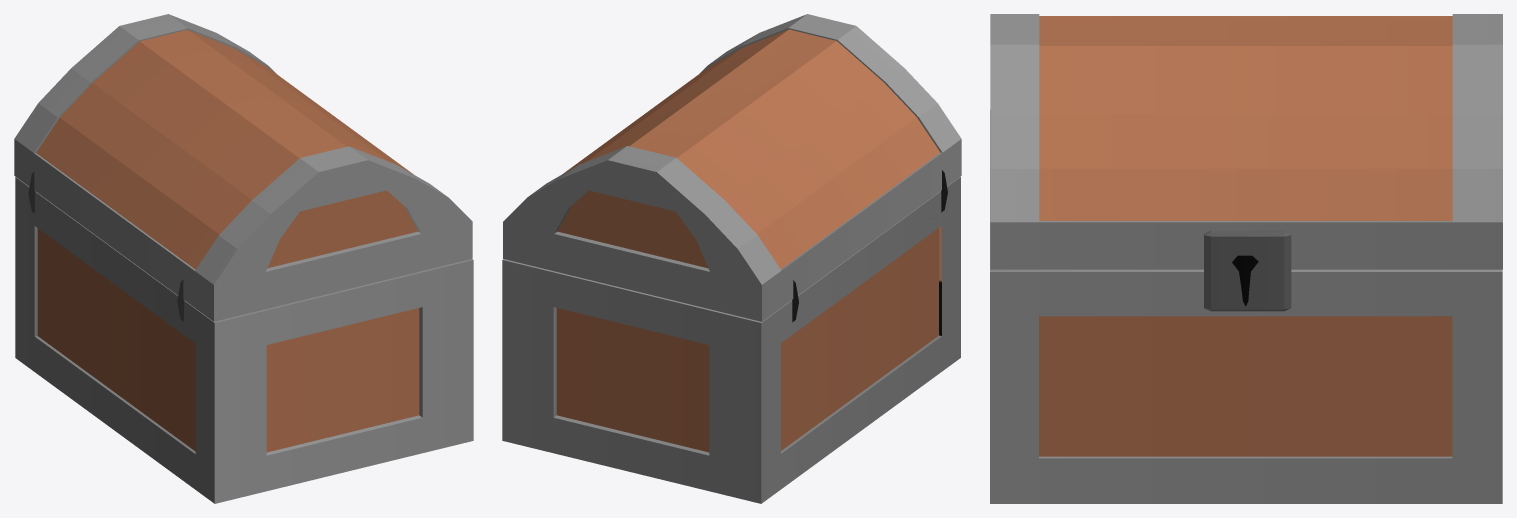
File: chesttesd.fbx
3 renders of one model, left to right at view 1: azimuth 30°, elevation 25°; view 2: azimuth 150°, elevation 25°; view 3: azimuth 270°, elevation 25°, orthographic. The views are drawn at different scales.
Parts seen in each view (by area): view 1: Cube, Cube.001; view 2: Cube, Cube.001; view 3: Cube.001, Cube.
Boxes of the visible parts, x1=… form: Cube: x1=15, y1=177, x2=473, y2=503; Cube.001: x1=14, y1=14, x2=472, y2=321; Cube: x1=502, y1=177, x2=960, y2=503; Cube.001: x1=503, y1=14, x2=961, y2=321; Cube.001: x1=990, y1=14, x2=1502, y2=311; Cube: x1=990, y1=110, x2=1502, y2=503.
Size of the model in its own units: 154 by 167 by 198.
Materials: 1 (1 with a texture image).
